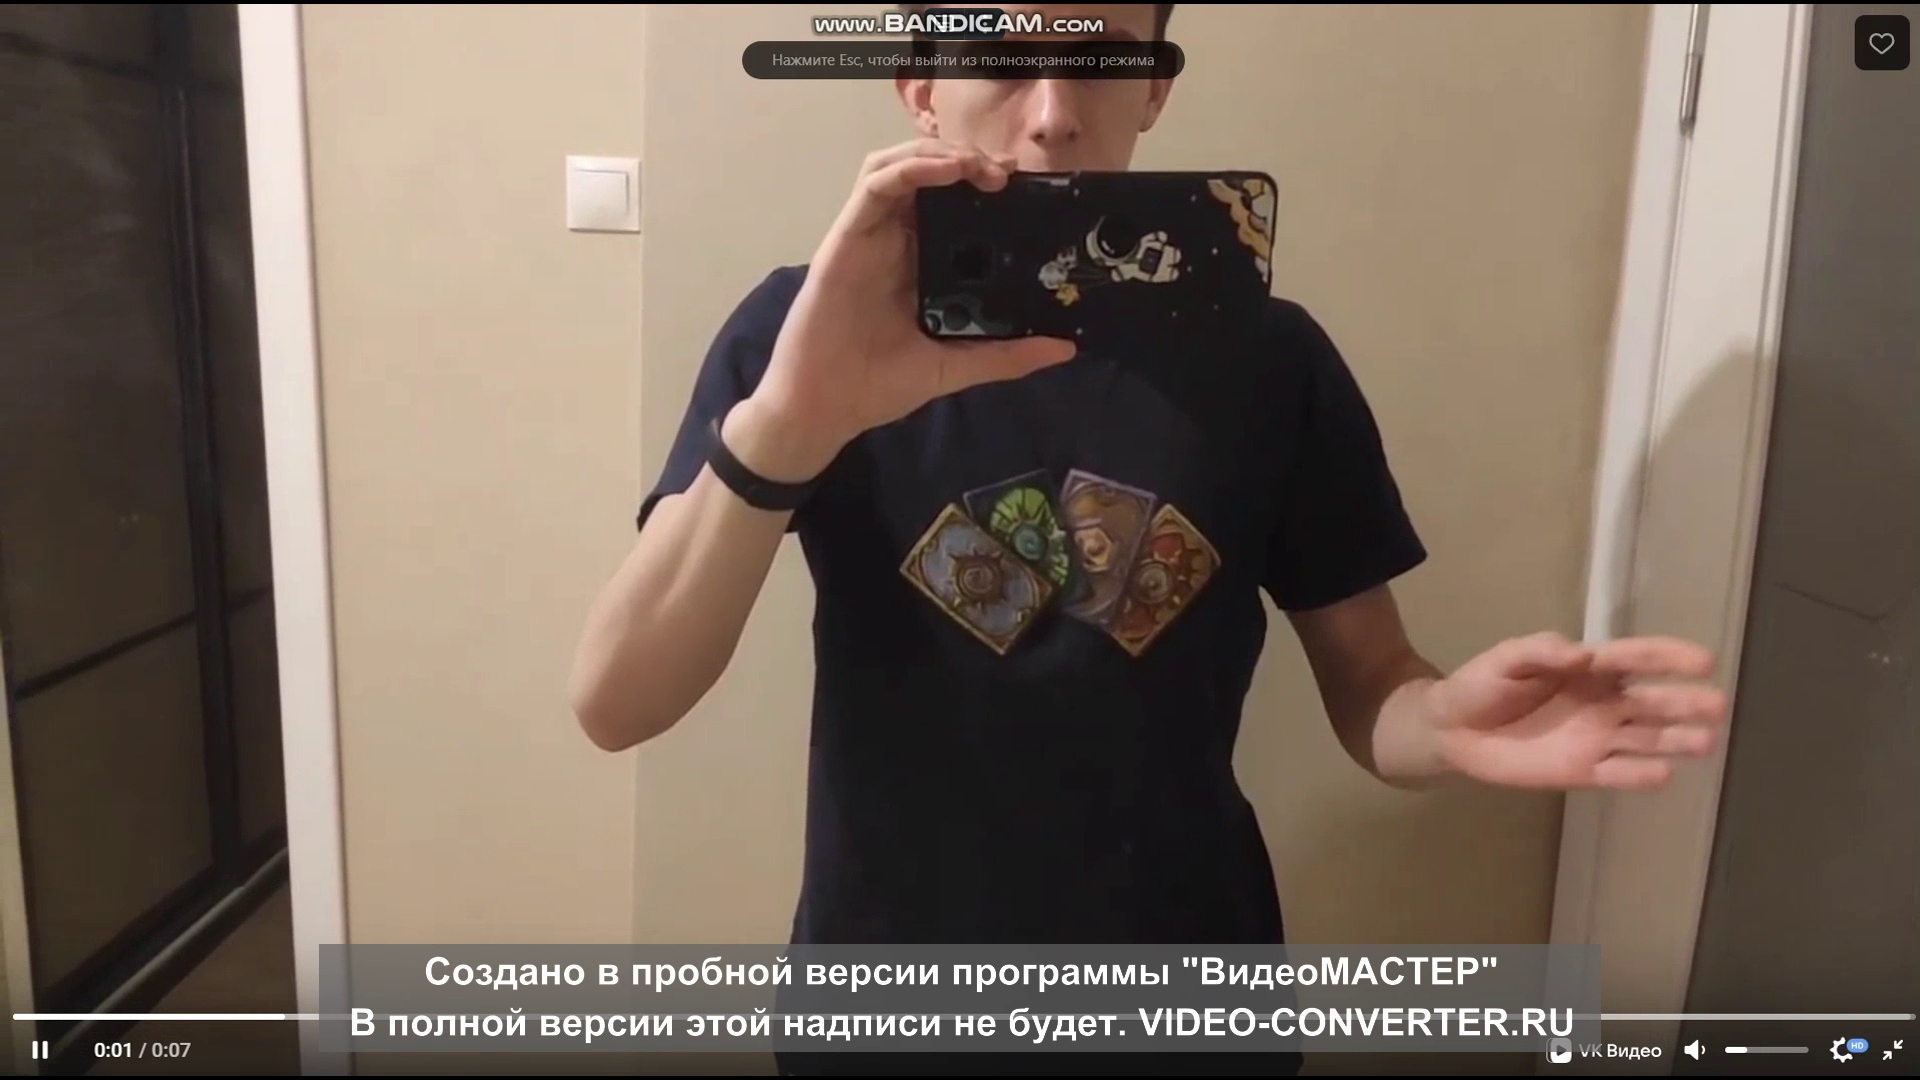Ладонь: (1449, 628, 1727, 793)
